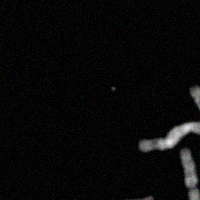chromosome: (137, 122, 200, 153), (180, 148, 199, 200), (187, 88, 200, 149), (103, 194, 153, 200)
